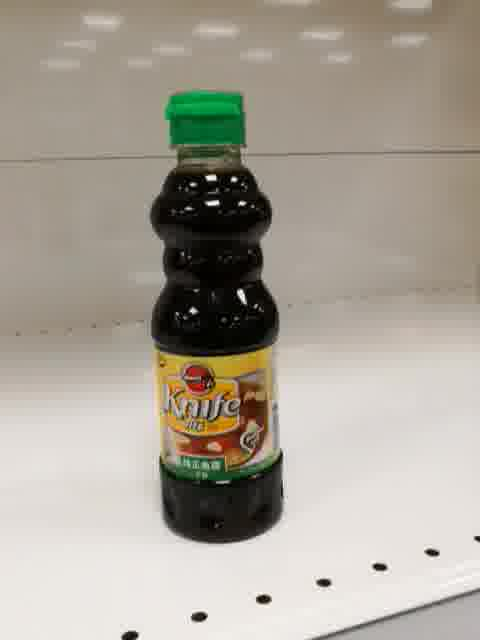cookingoil: (147, 83, 287, 546)
